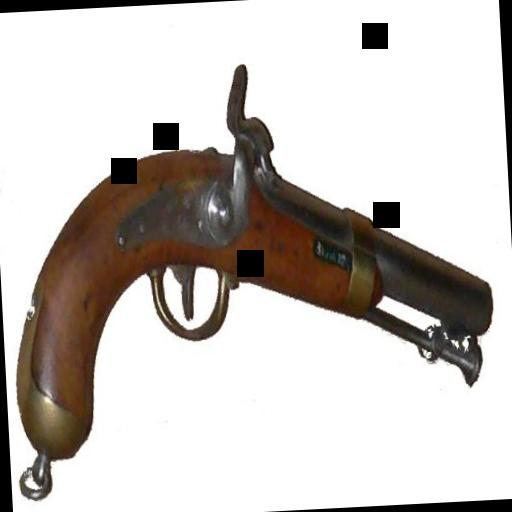Handgun: (10, 8, 500, 475)
